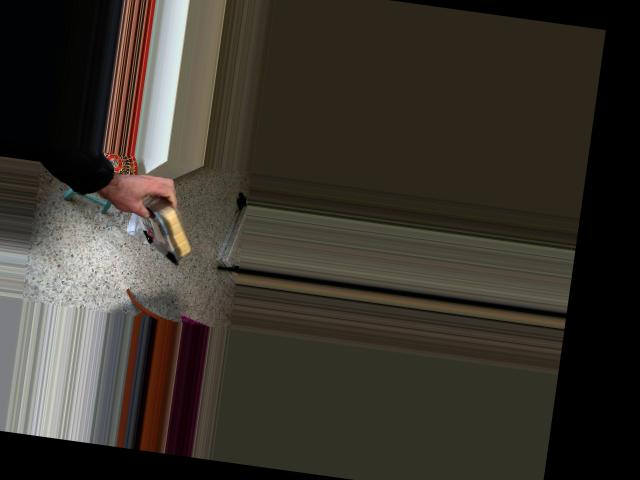cheese: (115, 162, 214, 281)
